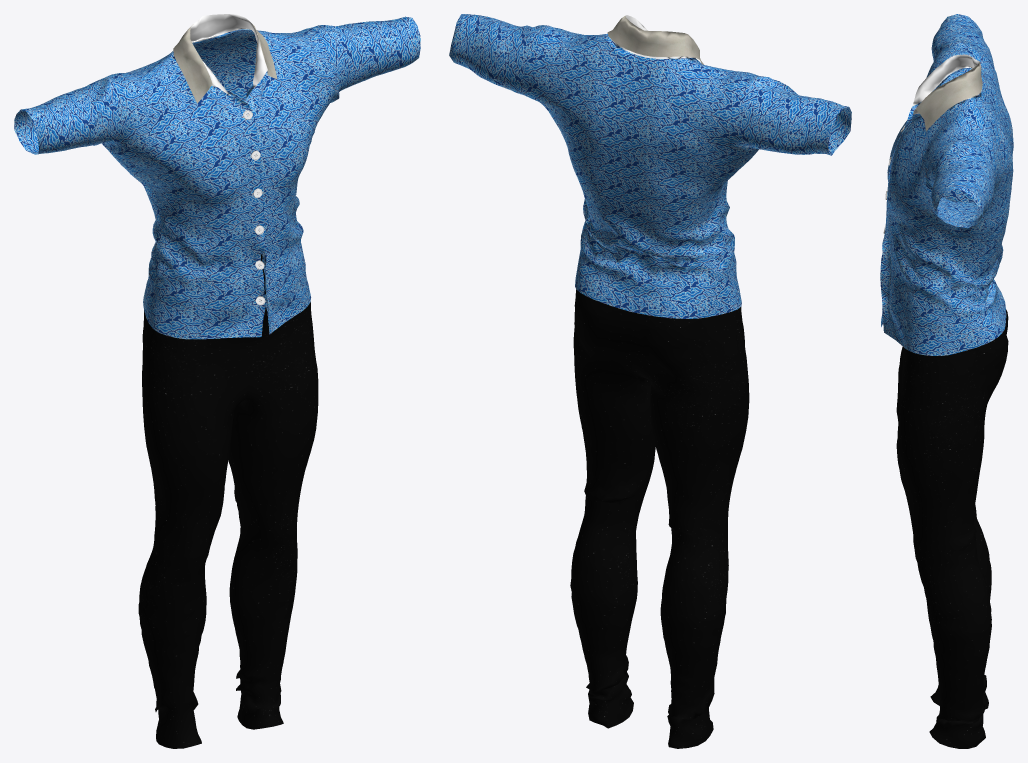
The model's file is Blender baju.fbx.
3 views of the same model, side by side, from view 1: azimuth 30°, elevation 25°; view 2: azimuth 150°, elevation 25°; view 3: azimuth 270°, elevation 25° (orthographic). The views are drawn at different scales.
Visible parts, largest first — view 1: BAju.003; view 2: BAju.003; view 3: BAju.003.
Boxes of the visible parts, x1,y1,x2,y2 form: BAju.003: (14,14,420,748); BAju.003: (449,14,851,748); BAju.003: (880,14,1013,748).
Size of the model in its own units: 929 by 1643 by 300.
6 materials, 4 textured.
